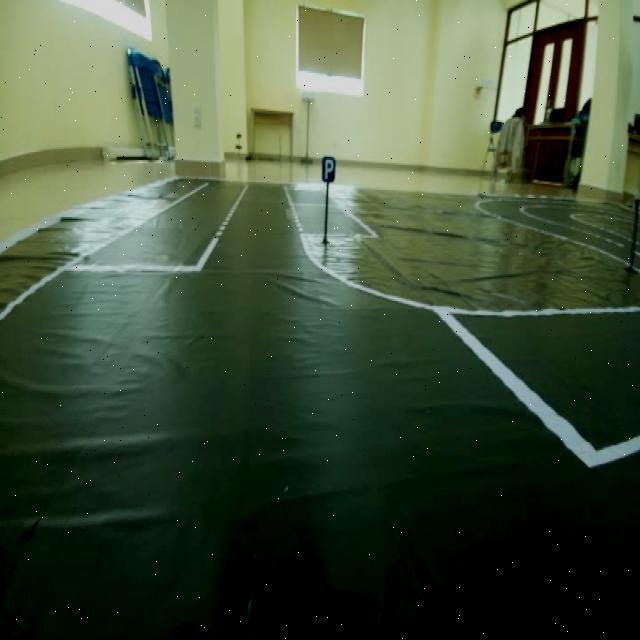parking: (320, 150, 338, 184)
